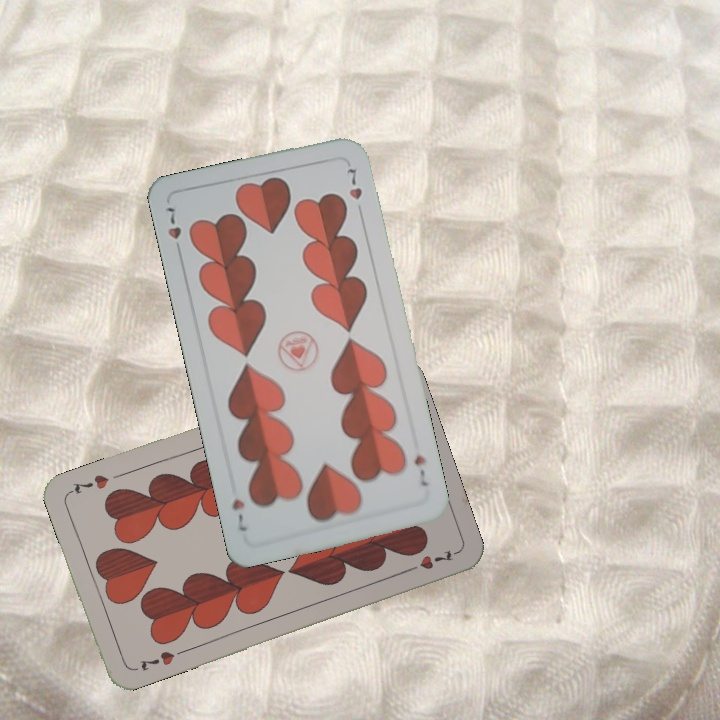H7: (161, 203, 185, 259), (135, 647, 177, 674), (410, 450, 431, 489)
